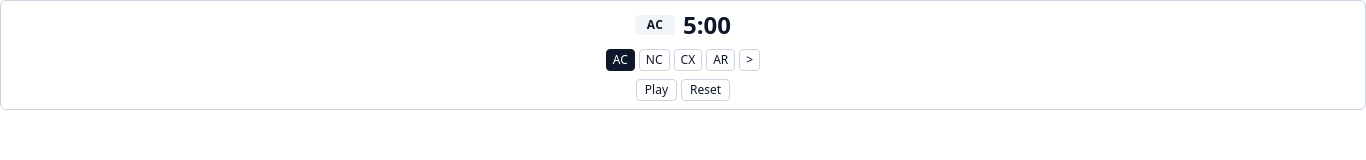
SpeechTimer › > advances through AC, NC, CX, AR and wraps back to AC
expect the text with test id "speech-label" reads "AC": met, box [647,16,663,33]
Click the button named "advance to next speech" at (750, 60), box [739,49,760,71]
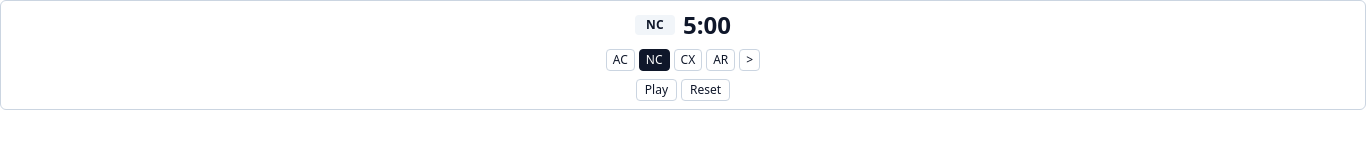
expect the text with test id "speech-label" reads "NC": met, box [646,16,664,33]
Click the button named "advance to next speech" at (750, 60), box [739,49,760,71]
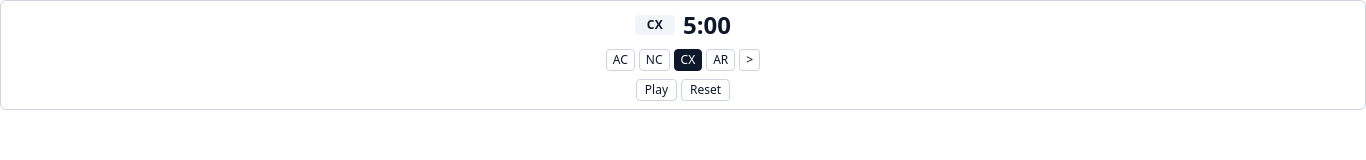
expect the text with test id "speech-label" reads "CX": met, box [647,16,663,33]
Click the button named "advance to next speech" at (750, 60), box [739,49,760,71]
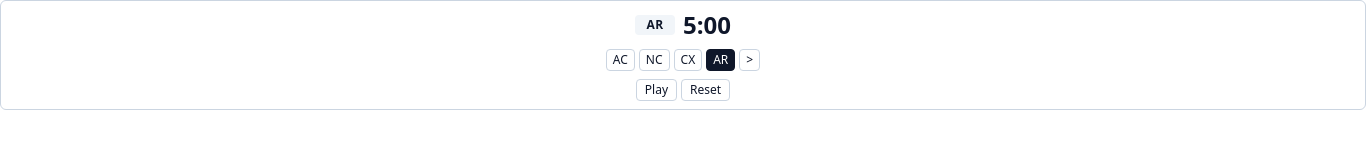
expect the text with test id "speech-label" reads "AR": met, box [647,16,663,33]
Click the button named "advance to next speech" at (750, 60), box [739,49,760,71]
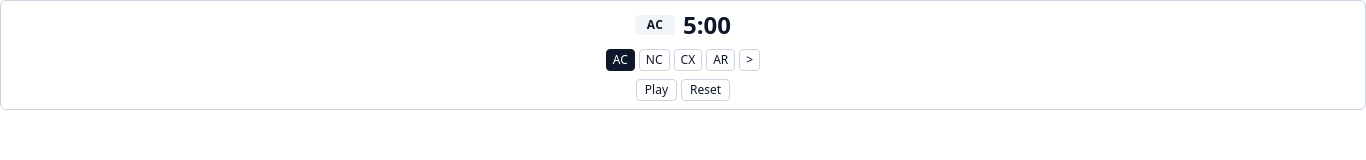
expect the text with test id "speech-label" reads "AC": met, box [647,16,663,33]
